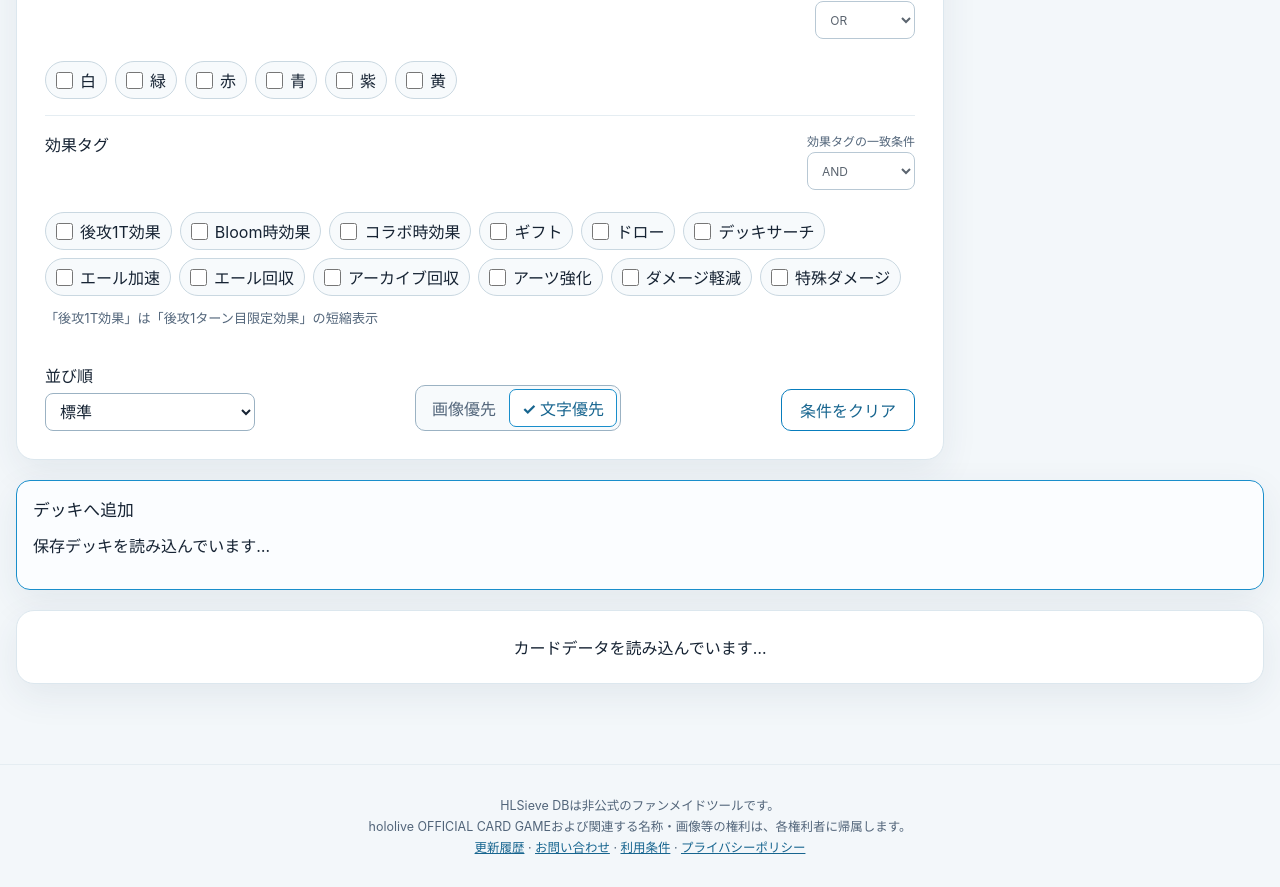
Test: App › routes to the privacy policy from the footer without signing in
(page scrolled)
Click the link "プライバシーポリシー": (743, 848) 681,840 -> 806,855
(page scrolled)
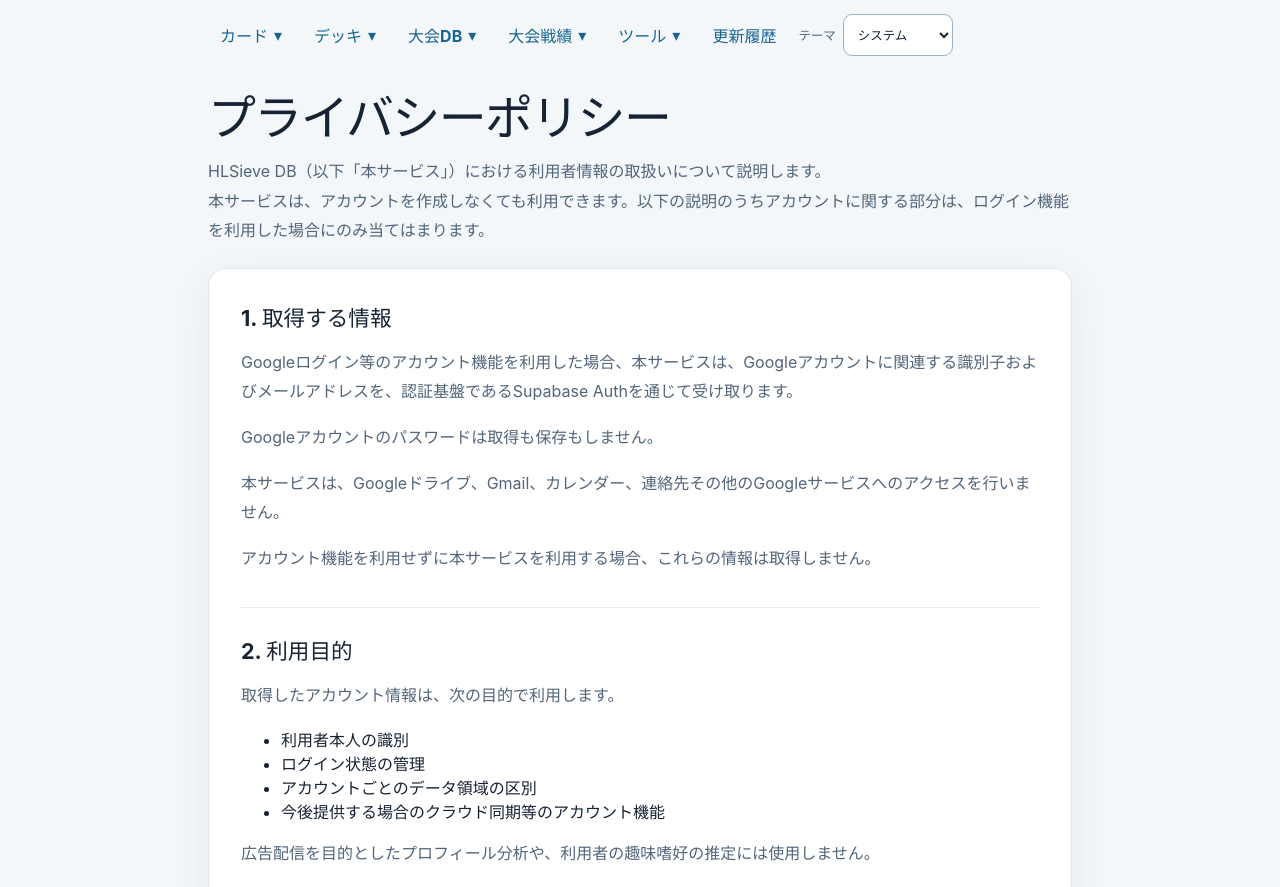
Expected: the heading "プライバシーポリシー" is shown, 208,88 -> 670,147
Expected: the text "Googleアカウントのパスワードは取得も保存もしません。" is shown, 241,427 -> 663,447
